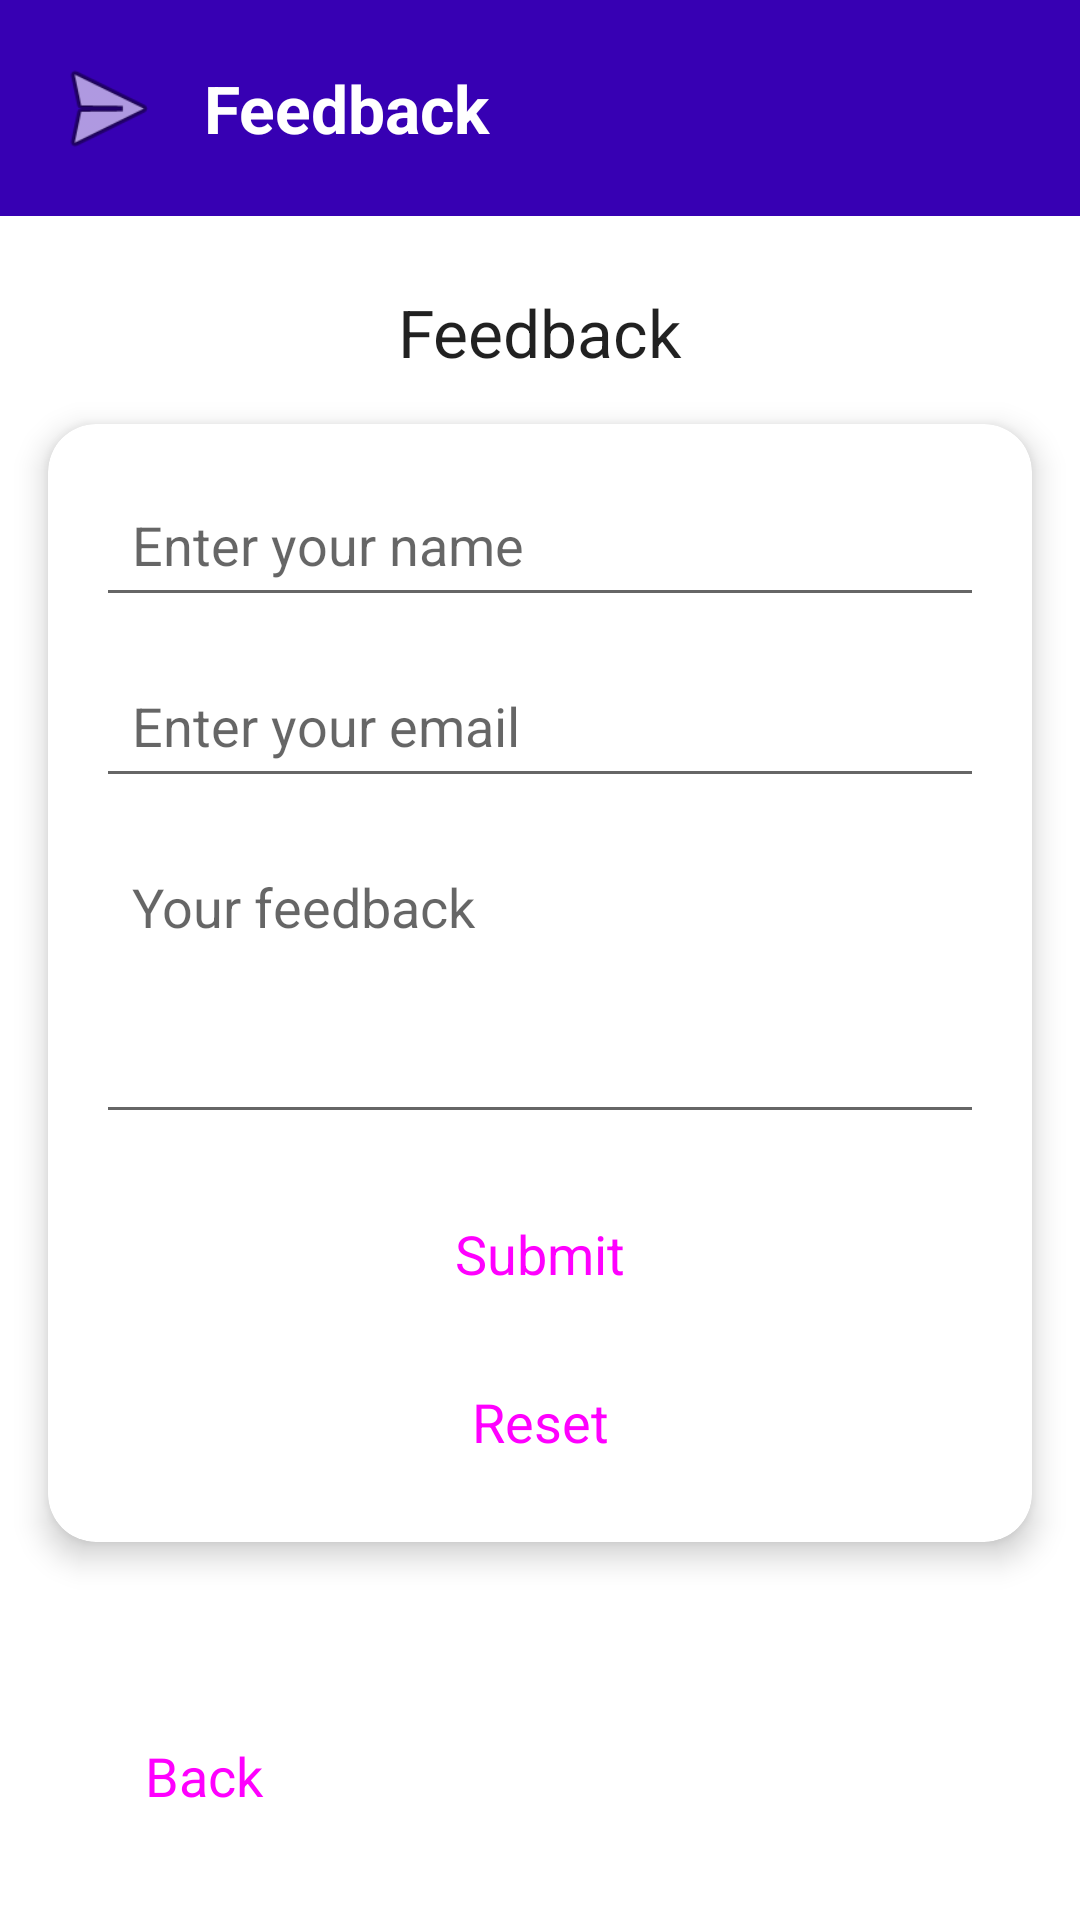

Icons on this 1080×1920 Android screen, each with its box as (x1, y1, x2, y2):
App Icon: (71, 71, 147, 146)
